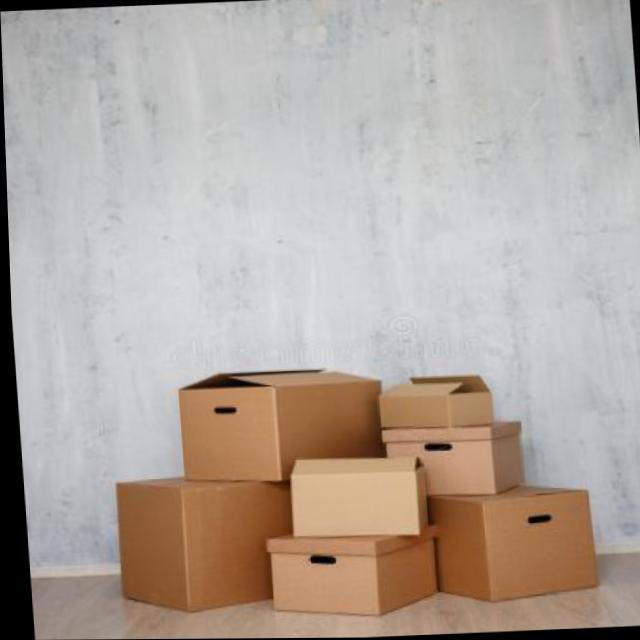box: (110, 471, 287, 624), (167, 365, 371, 491), (426, 489, 605, 601), (263, 535, 440, 639), (276, 451, 434, 537), (375, 419, 542, 491), (376, 364, 497, 423)
